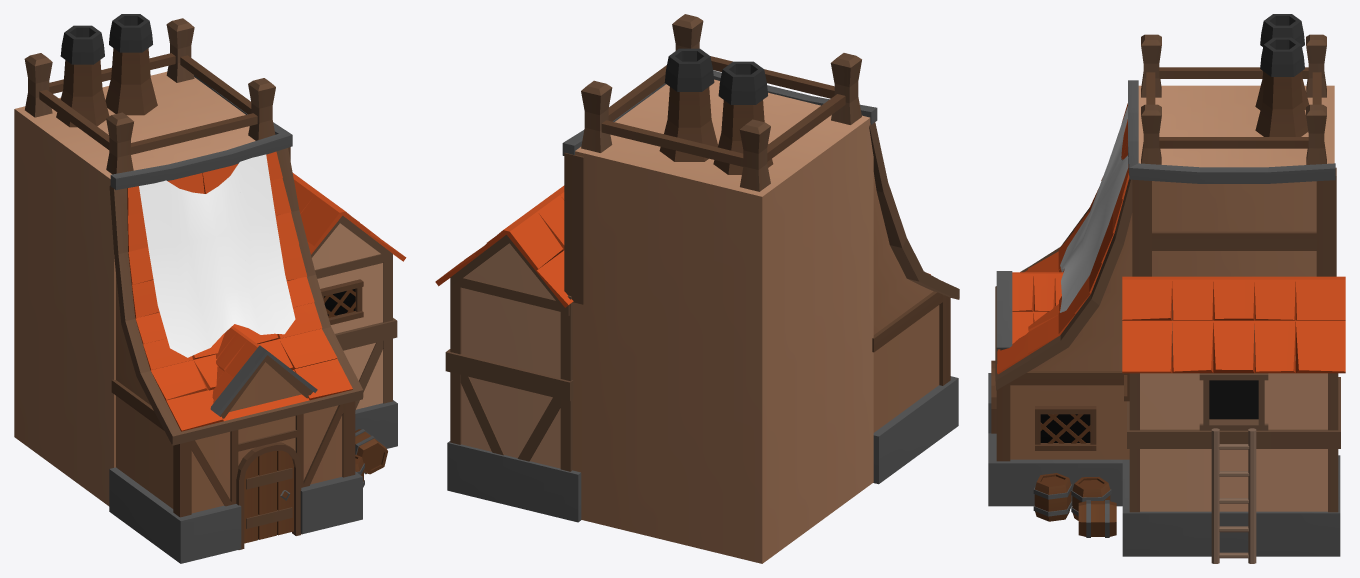
File: Town Hall Level 5.glb
The picture shows the model from 3 angles, left to right: view 1: azimuth 30°, elevation 25°; view 2: azimuth 150°, elevation 25°; view 3: azimuth 270°, elevation 25°; orthographic projection. The views are drawn at different scales.
Parts seen in each view (by area): view 1: Town Hall Level 5 Base, Flag.005, Door.005; view 2: Town Hall Level 5 Base; view 3: Town Hall Level 5 Base, Flag.005.
Boxes of the visible parts, <box> form: Town Hall Level 5 Base: <box>14,14,406,563</box>; Flag.005: <box>139,154,295,357</box>; Door.005: <box>244,450,293,543</box>; Town Hall Level 5 Base: <box>435,14,959,563</box>; Town Hall Level 5 Base: <box>988,14,1345,563</box>; Flag.005: <box>1060,106,1128,312</box>.
Bounding box in the file's own units: 6.41 × 8.41 × 6.46.
2 materials, 2 textured.
